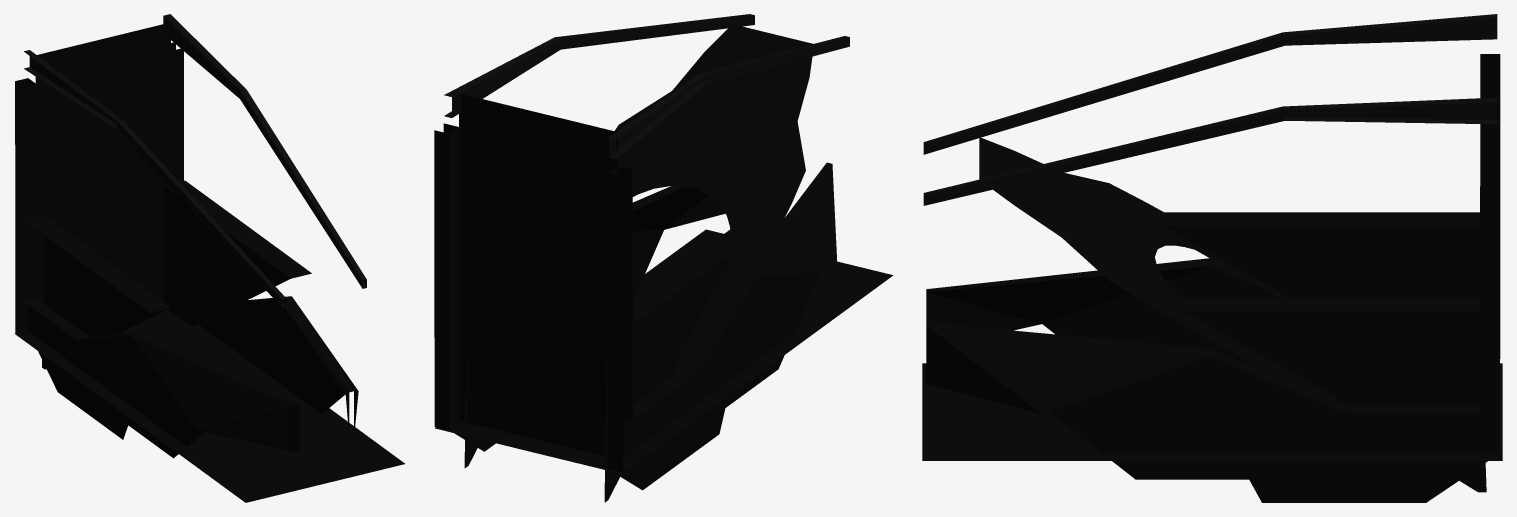
The model's file is cockmdl.obj.
The picture shows the model from 3 angles, left to right: view 1: azimuth 30°, elevation 25°; view 2: azimuth 150°, elevation 25°; view 3: azimuth 270°, elevation 25°; orthographic projection. The views are drawn at different scales.
Bounding box in the file's own units: 0.2104 × 0.3917 × 0.5086.
7 materials, 6 textured.
